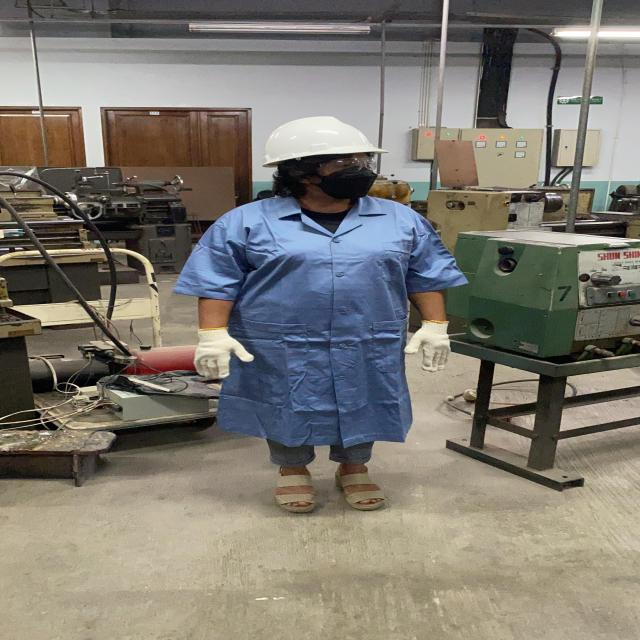face_mask: (309, 155, 381, 201)
glasses: (302, 157, 385, 176)
hand_glove: (188, 326, 258, 379), (399, 319, 456, 372)
head_helmet: (257, 113, 388, 161)
person: (166, 97, 474, 522)
